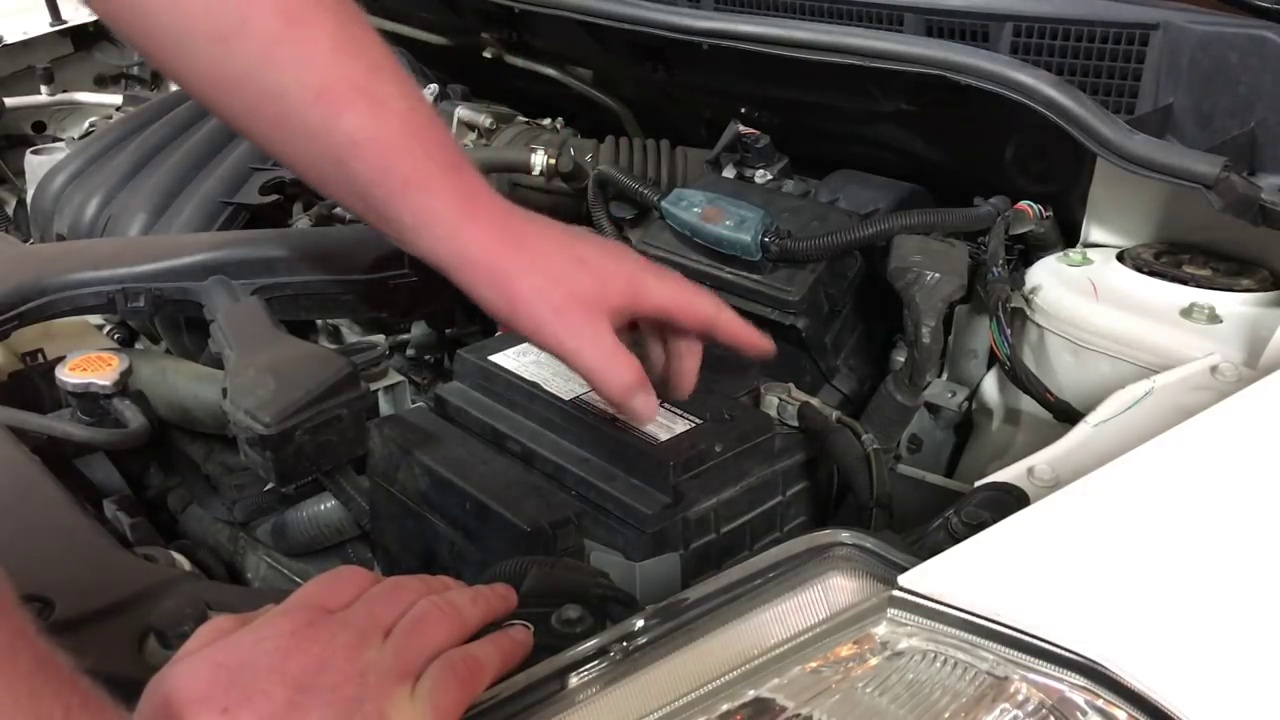battery: (450, 312, 808, 464)
